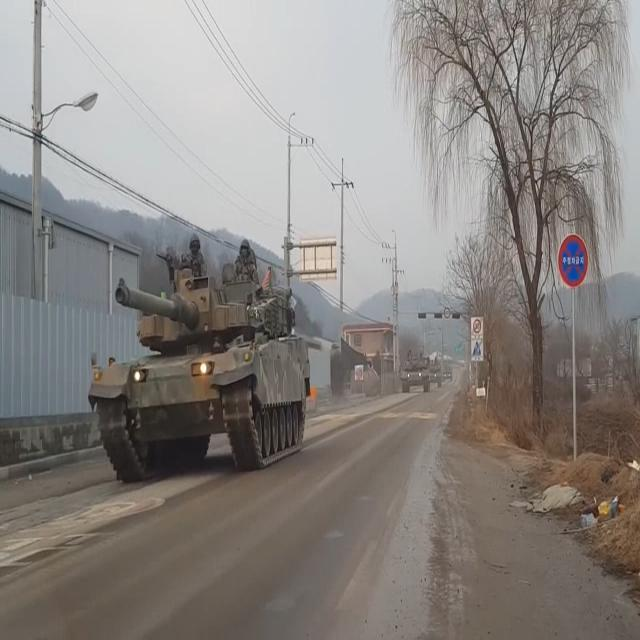korea tank: (86, 231, 314, 486)
